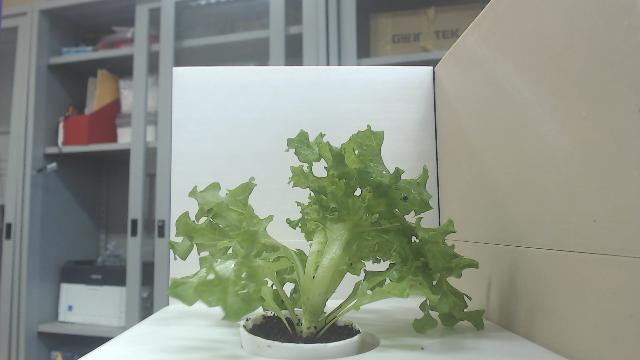Harvest Stage: (166, 123, 487, 335)
